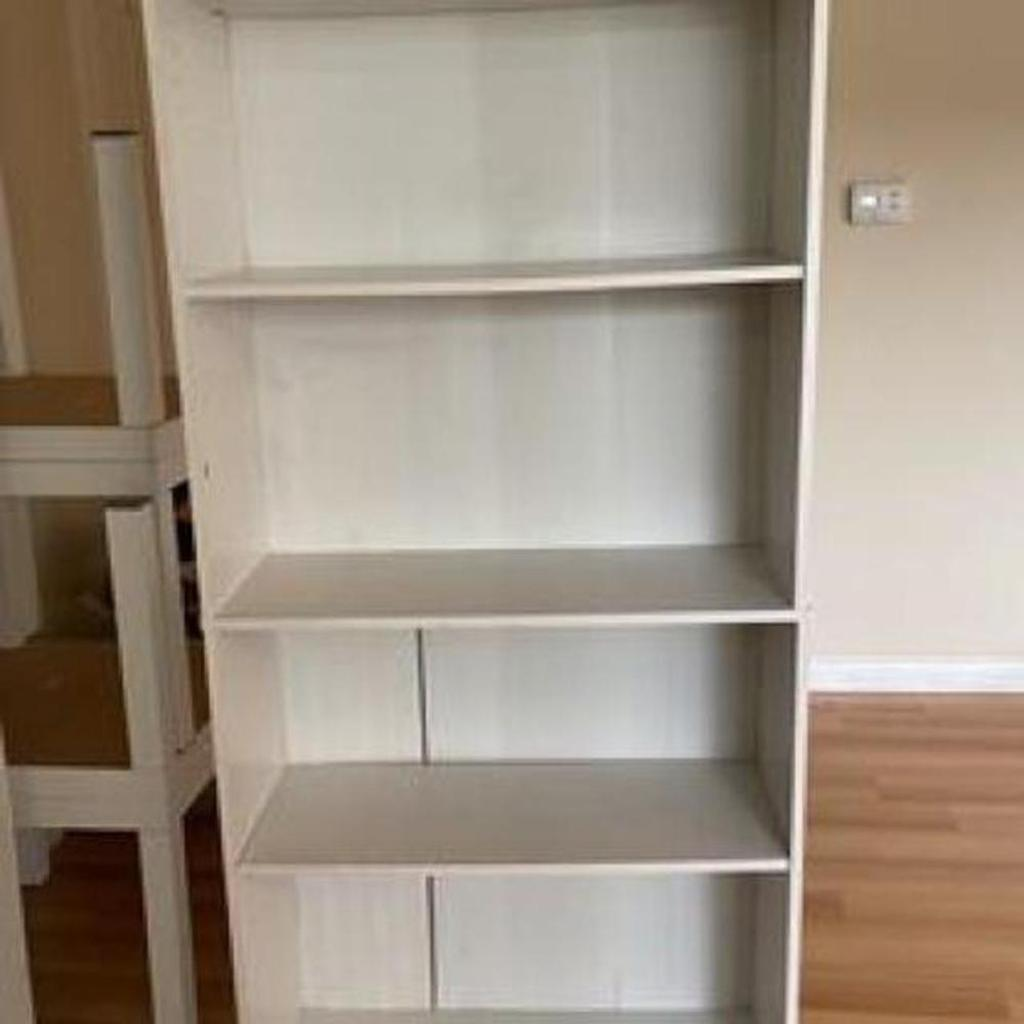lamp: (130, 0, 837, 1022)
